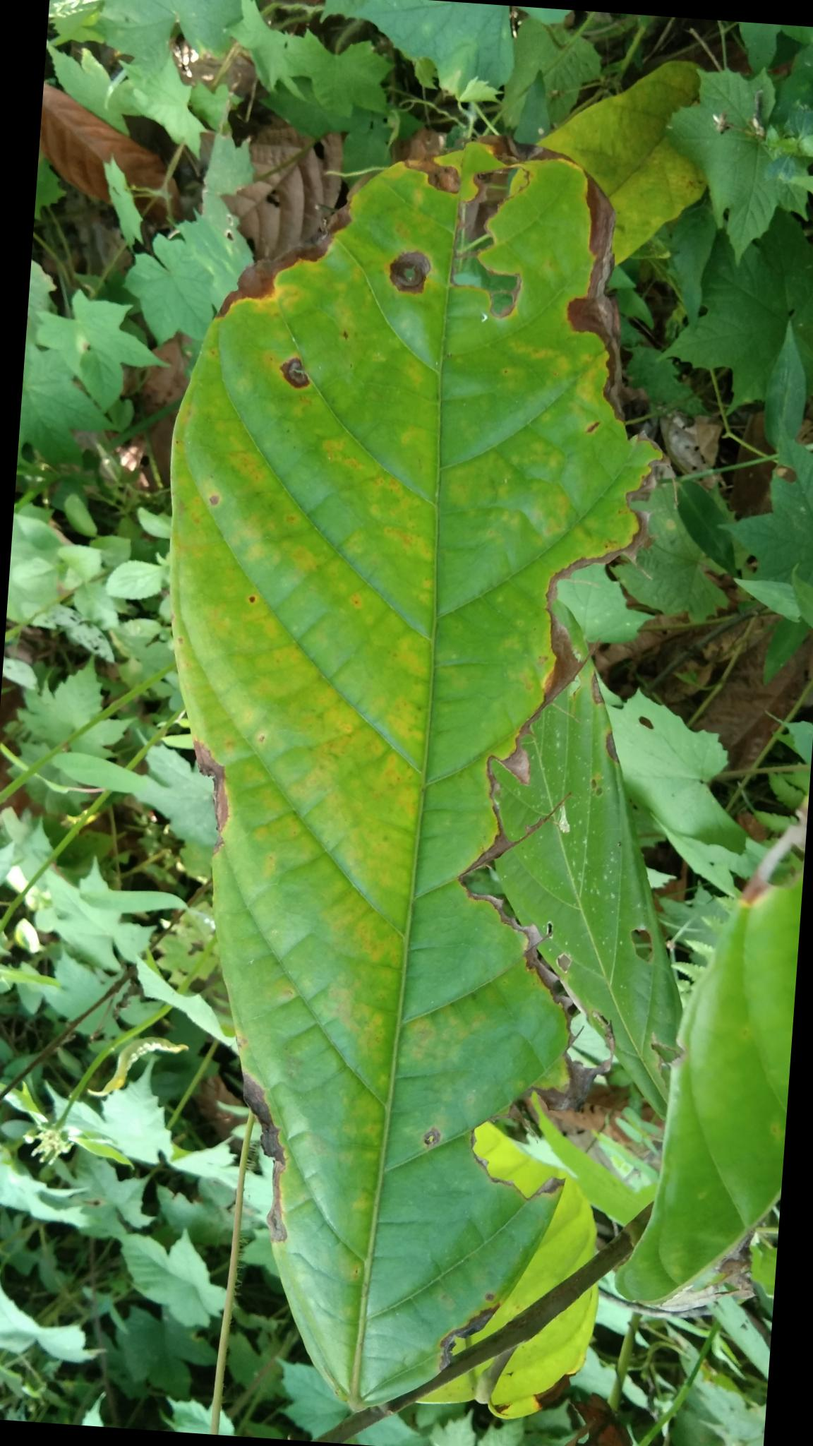Fosforo: (201, 100, 646, 1398)
